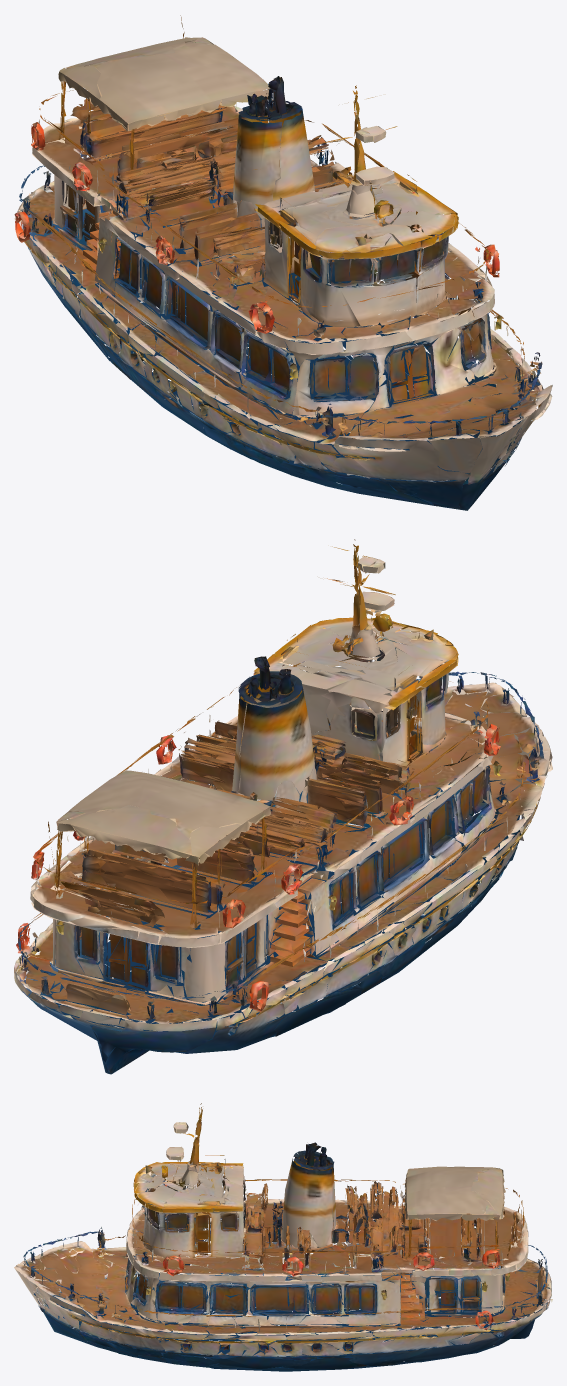
Rendered from base_basic_pbr.glb.
The picture shows the model from 3 angles, top to bottom: view 1: azimuth 30°, elevation 25°; view 2: azimuth 150°, elevation 25°; view 3: azimuth 270°, elevation 25°; orthographic projection. The views are drawn at different scales.
Visible parts, largest first — view 1: model; view 2: model; view 3: model.
Boxes of the visible parts, left/top/right/bottom form: model: left=14, top=15, right=552, bottom=510; model: left=14, top=539, right=552, bottom=1074; model: left=14, top=1103, right=552, bottom=1371.
Bounding box in the file's own units: 0.7634 × 0.9282 × 1.91.
1 material, 1 textured.
